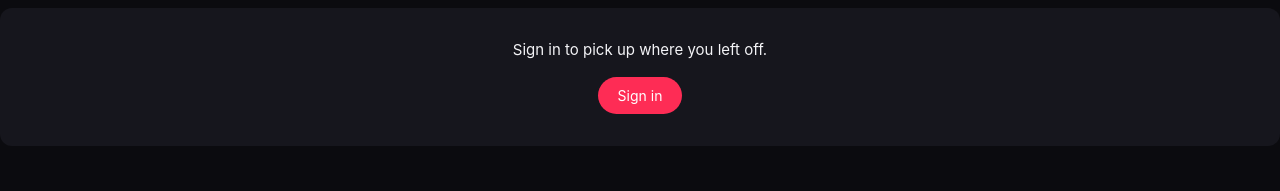
Test: the sign-in prompt › says so when silent login could not produce a session
What coordinates should you click on to do the following:
click the button with test id "sign-in"
I would click on:
 (640, 96)
Its box is 598,77 -> 682,114.
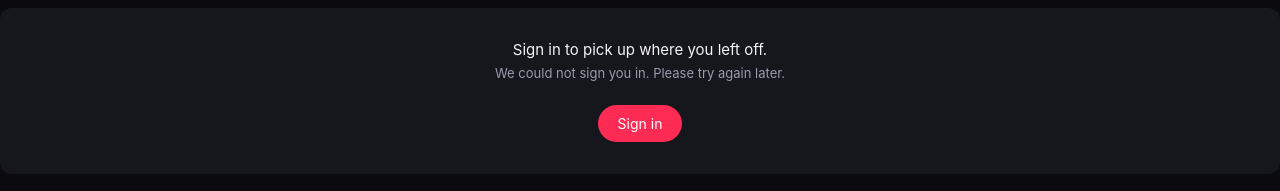
Check: the text with test id "sign-in-unavailable" shows "We could not sign you in.", box 495,65 -> 785,81
